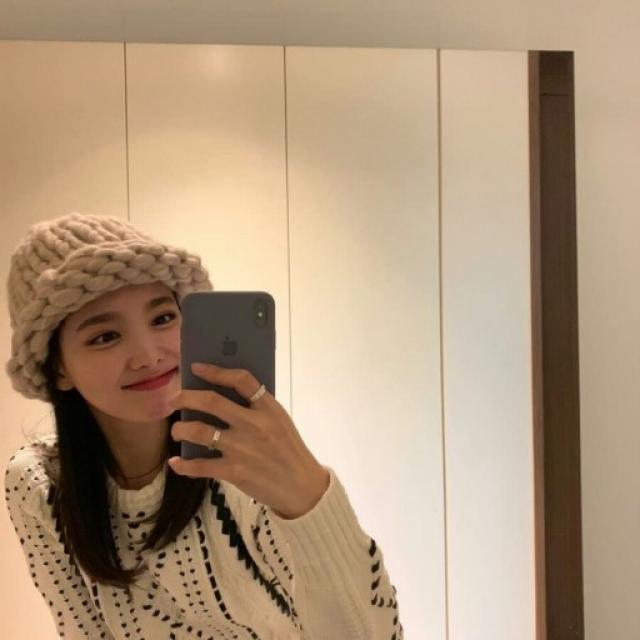phone: (178, 287, 278, 461)
